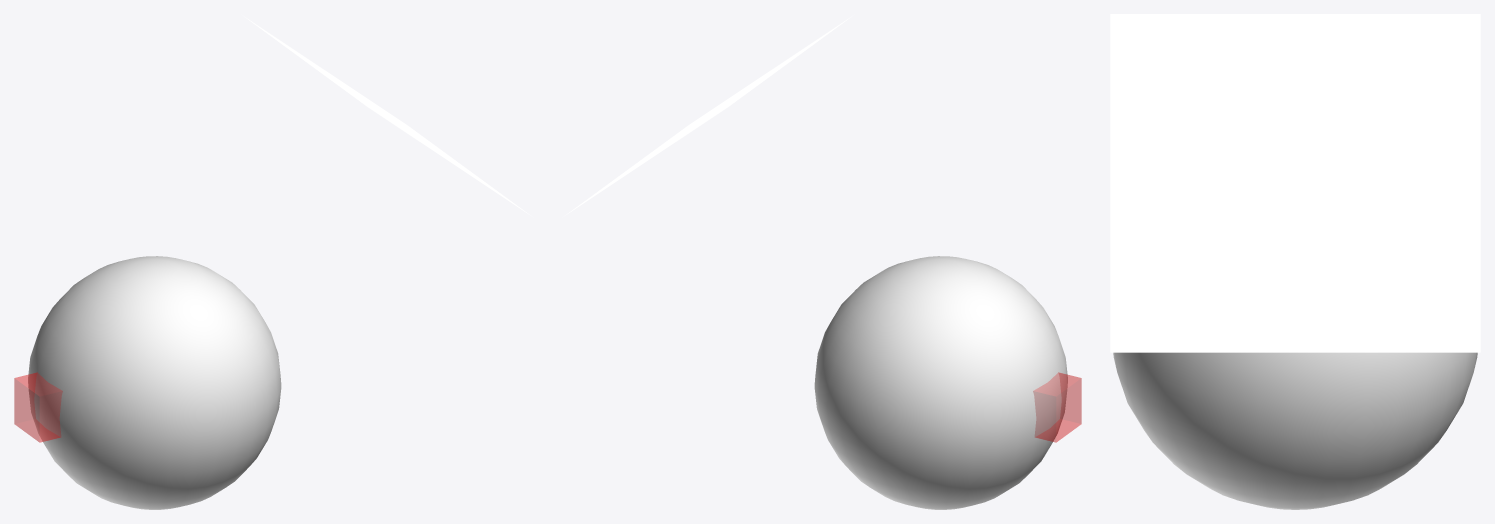
Rendered from nested-dielectrics.gltf.
3 renders of one model, left to right at view 1: azimuth 30°, elevation 25°; view 2: azimuth 150°, elevation 25°; view 3: azimuth 270°, elevation 25°, orthographic. The views are drawn at different scales.
Parts seen in each view (by area): view 1: Sphere, Cube, Plane; view 2: Sphere, Cube, Plane; view 3: Plane, Sphere.
Boxes of the visible parts, x1=… form: Sphere: x1=28, y1=256, x2=281, y2=509; Cube: x1=14, y1=372, x2=62, y2=442; Plane: x1=244, y1=16, x2=530, y2=215; Sphere: x1=814, y1=256, x2=1067, y2=509; Cube: x1=1033, y1=372, x2=1081, y2=442; Plane: x1=565, y1=16, x2=851, y2=215; Plane: x1=1110, y1=14, x2=1480, y2=352; Sphere: x1=1113, y1=352, x2=1477, y2=509.
Size of what is drawn, in the model's own units: 4.03 by 3.48 by 2.
